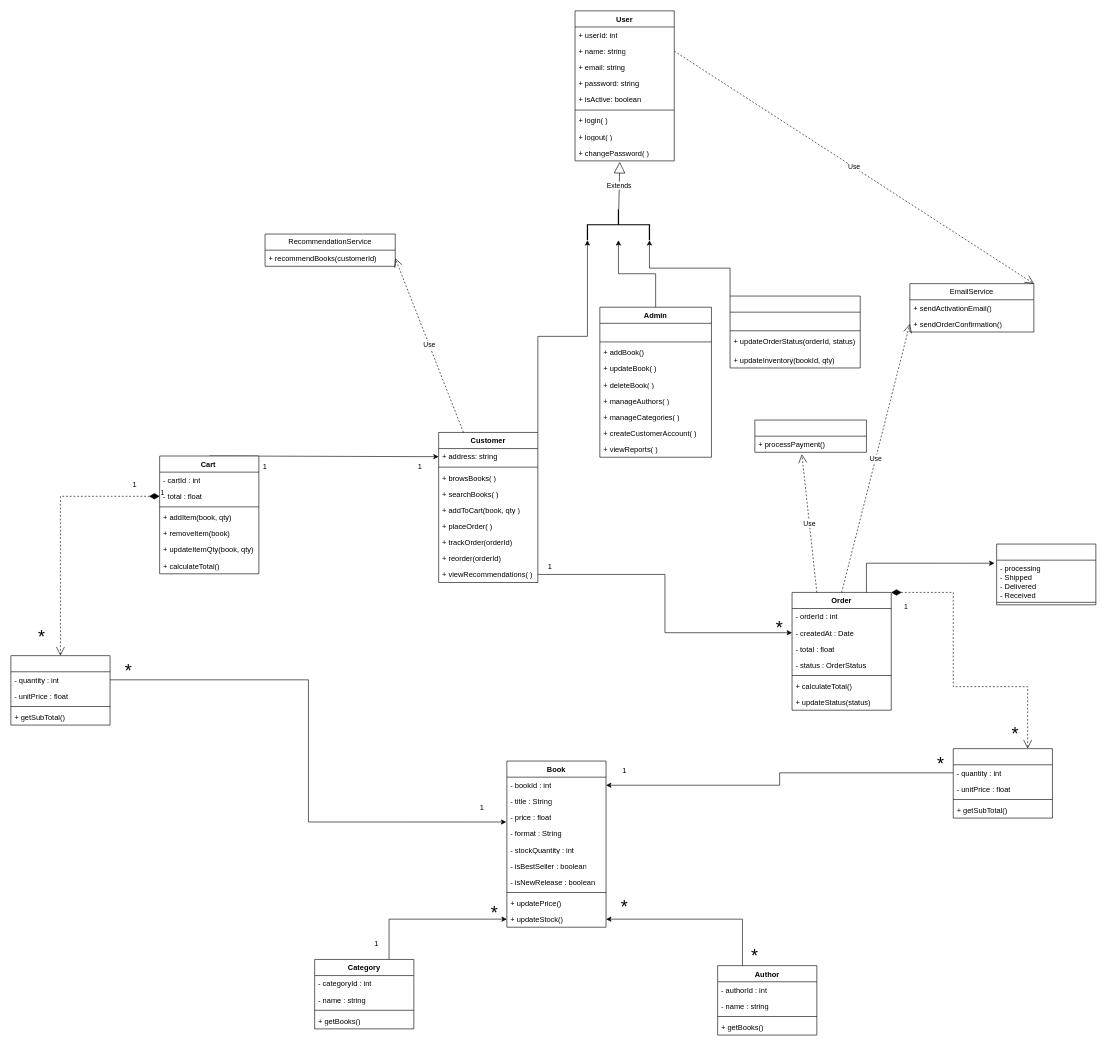
This 1107x1048 diagram has some shape labels left out. The box of each missing label's shape, as (x1, y1, x2, y2) in pixels:
CartItem: (10, 655, 110, 725)
OrderItem: (953, 748, 1052, 818)
OrderManager: (729, 295, 860, 368)
OrderStatus: (996, 543, 1096, 605)
PaymentService: (754, 419, 866, 452)
